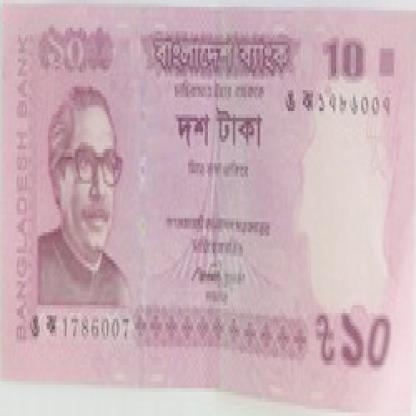Ten Taka: (334, 298, 392, 381), (173, 108, 265, 152), (320, 31, 370, 87), (40, 28, 91, 76)
